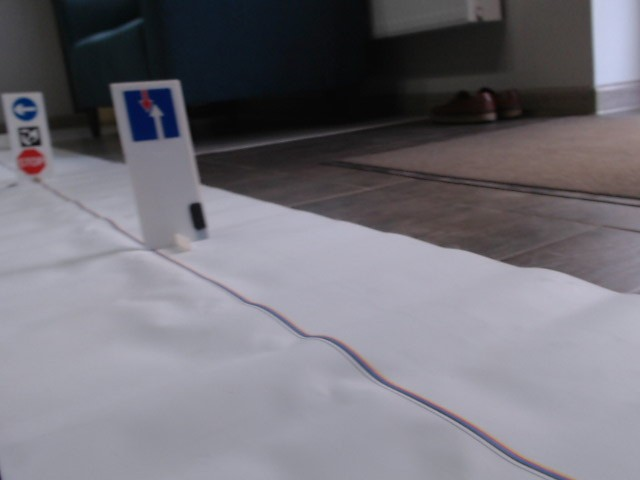Stop: (16, 148, 46, 176)
priority_movement: (114, 87, 182, 143)
